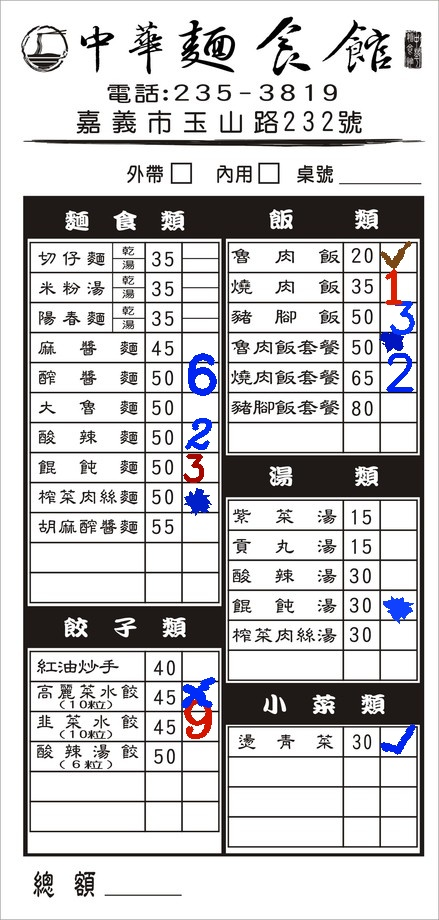marked_circle: (181, 483, 217, 512), (378, 332, 414, 361), (380, 589, 416, 618)
marked_number_1: (378, 271, 414, 300)
marked_number_2: (381, 360, 417, 389), (181, 424, 217, 453)
marked_number_3: (179, 453, 215, 482), (380, 302, 416, 331)
marked_number_6: (182, 362, 218, 391)
marked_number_9: (181, 711, 217, 740)
marked_tick: (380, 726, 416, 755), (381, 242, 417, 271)
marked_x: (181, 681, 217, 710)
